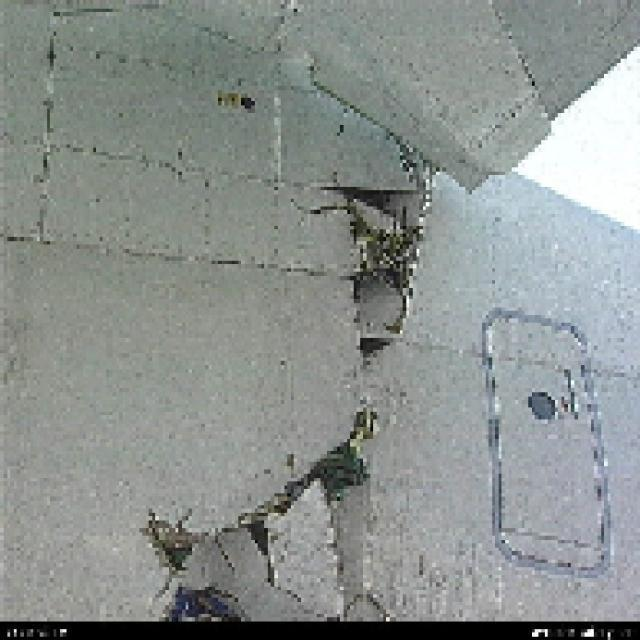crack: (135, 129, 442, 611)
